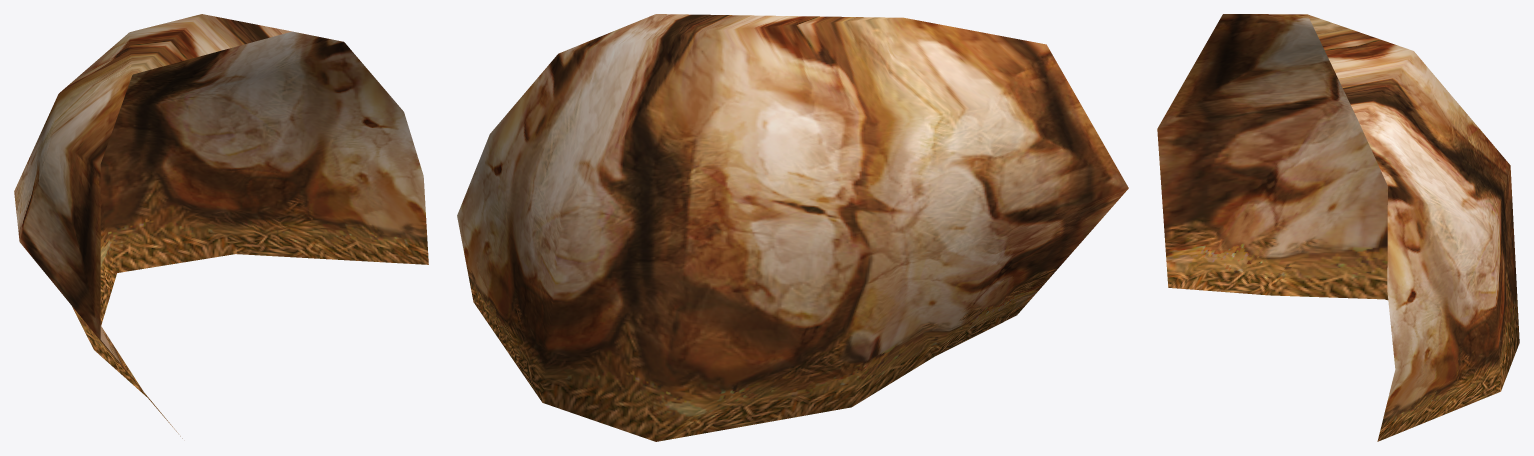
The model's file is des_rock_01.fbx.
3 views of the same model, side by side, from view 1: azimuth 30°, elevation 25°; view 2: azimuth 150°, elevation 25°; view 3: azimuth 270°, elevation 25° (orthographic). The views are drawn at different scales.
Visible parts, largest first — view 1: des_rock_01; view 2: des_rock_01; view 3: des_rock_01.
Part boxes in pixels (x1=…): des_rock_01: x1=14, y1=14, x2=428, y2=438; des_rock_01: x1=457, y1=14, x2=1128, y2=441; des_rock_01: x1=1157, y1=14, x2=1519, y2=441.
Size of the model in its own units: 1649 by 1070 by 1239.
